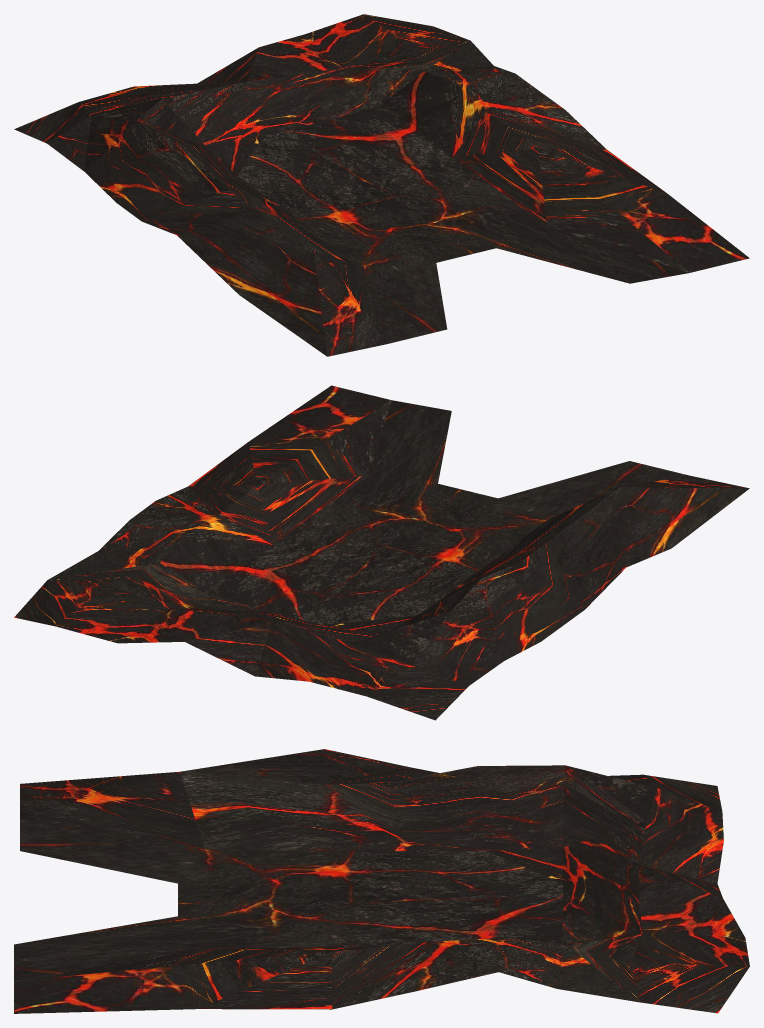
The model's file is HellFinish1.fbx.
The picture shows the model from 3 angles, top to bottom: view 1: azimuth 30°, elevation 25°; view 2: azimuth 150°, elevation 25°; view 3: azimuth 270°, elevation 25°; orthographic projection. The views are drawn at different scales.
Visible parts, largest first — view 1: Hellfinish; view 2: Hellfinish; view 3: Hellfinish.
Boxes of the visible parts, <box> form: Hellfinish: <box>14,14,749,356</box>; Hellfinish: <box>14,385,749,720</box>; Hellfinish: <box>14,749,749,1013</box>.
Size of the model in its own units: 41.49 by 4.36 by 54.58.
